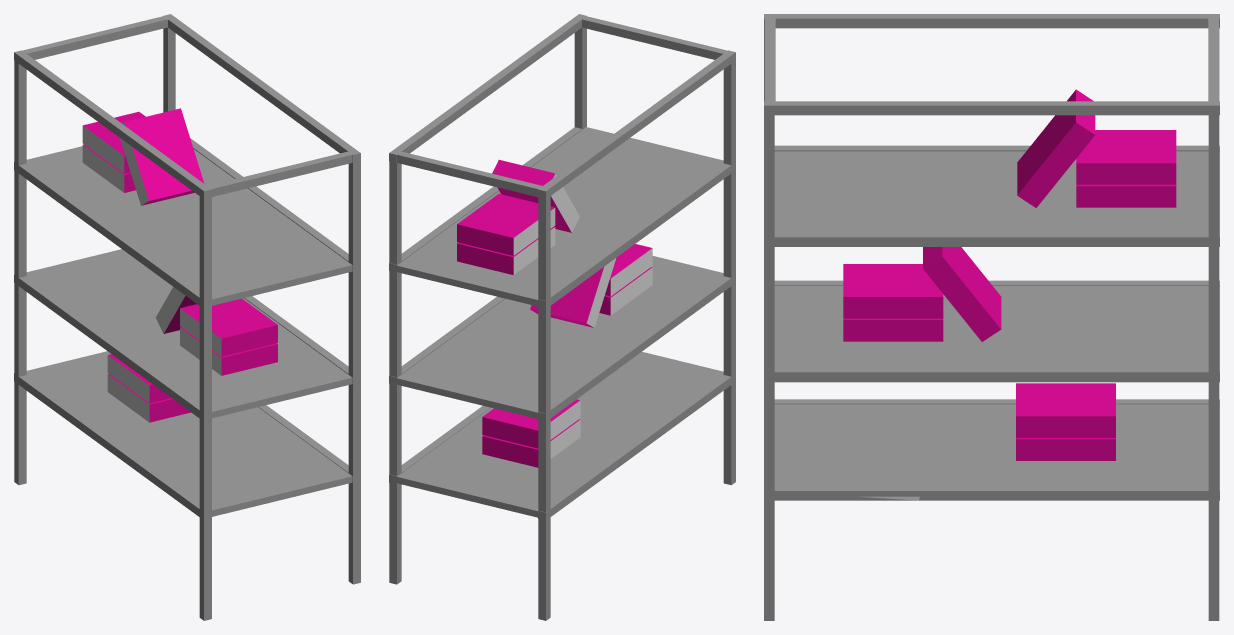
The model's file is shelf 2.fbx.
3 views of the same model, side by side, from view 1: azimuth 30°, elevation 25°; view 2: azimuth 150°, elevation 25°; view 3: azimuth 270°, elevation 25° (orthographic). The views are drawn at different scales.
Visible parts, largest first — view 1: Cube.065, Cube.075, Cube.066, Cube.068, Cube.067; view 2: Cube.065, Cube.075, Cube.066, Cube.067, Cube.068; view 3: Cube.065, Cube.066, Cube.075, Cube.068, Cube.067.
Boxes of the visible parts, box(x1,y1,x2,y2) form: Cube.065: box(14, 73, 360, 620); Cube.075: box(14, 14, 251, 485); Cube.066: box(26, 249, 287, 471); Cube.068: box(146, 321, 352, 516); Cube.067: box(131, 197, 351, 299); Cube.065: box(389, 14, 735, 520); Cube.075: box(389, 93, 640, 620); Cube.066: box(393, 298, 673, 518); Cube.067: box(494, 127, 723, 220); Cube.068: box(582, 256, 723, 411); Cube.065: box(764, 14, 1219, 620); Cube.066: box(893, 286, 1219, 496); Cube.075: box(953, 14, 1219, 620); Cube.068: box(765, 286, 950, 500); Cube.067: box(774, 151, 986, 232).
Bounding box in the file's own units: 189 × 496 × 397.
